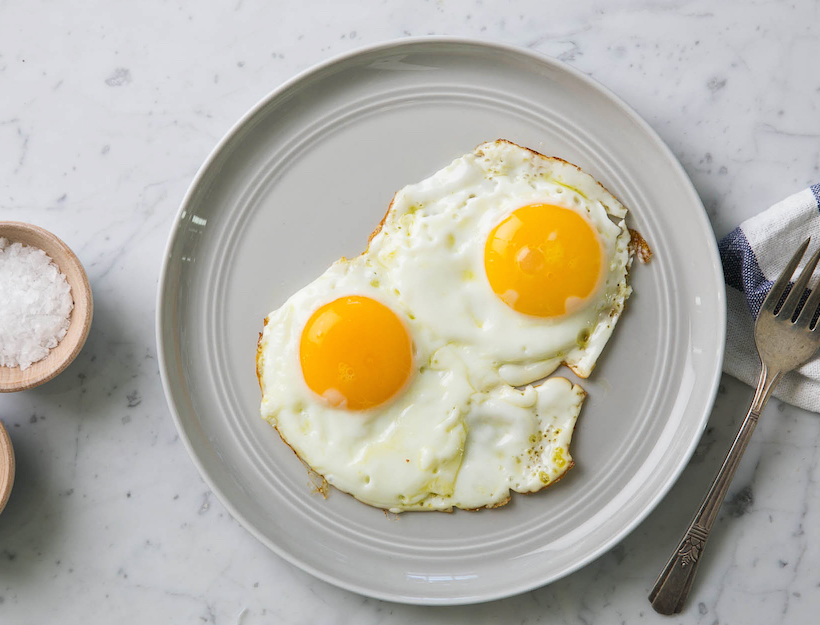fried egg: (274, 285, 531, 500), (414, 160, 601, 356)
